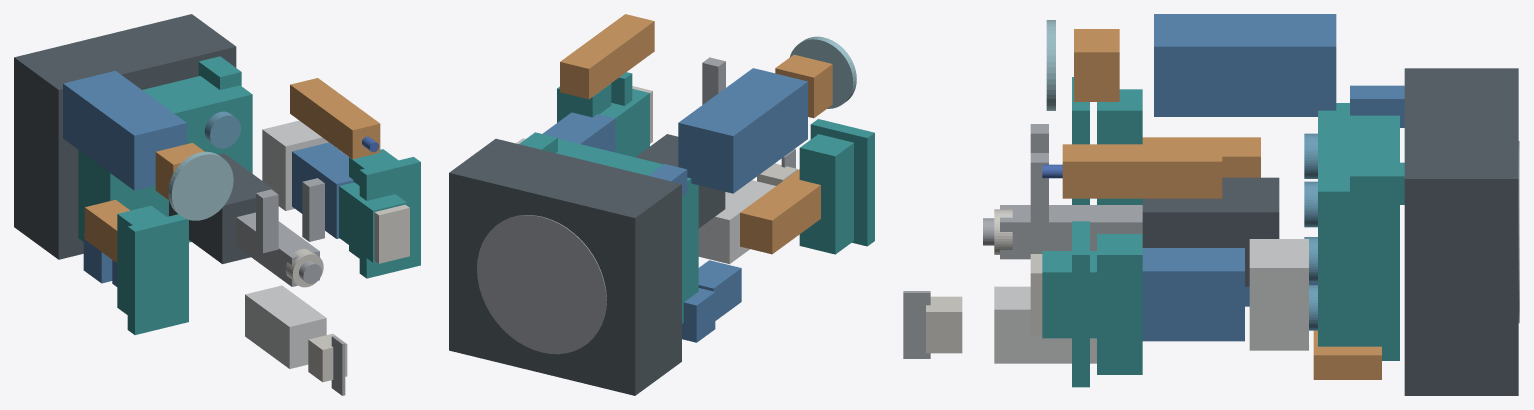
The model's file is dranmar_tumor_resection_tool_scissors.glb.
3 renders of one model, left to right at view 1: azimuth 30°, elevation 25°; view 2: azimuth 150°, elevation 25°; view 3: azimuth 270°, elevation 25°, orthographic. The views are drawn at different scales.
Parts seen in each view (by area): view 1: Mount_MountBody, BagDeployer_BagDeployerBody, SensorTurret_SensorTurretBody, LeftTraction_LeftPad, ScissorCarriage_ScissorCarriageBody, MarginMarker_MarginMarkerBody, RightTraction_RightPad, AspiratorCarriage_AspiratorCarriageBody, BagDeployer_BagRing, UltrasoundPitch_UltrasoundPitchBody, UltrasoundCarriage_UltrasoundCarriageBody, UltrasoundCompliance_UltrasoundComplianceBody (+15 smaller); view 2: Mount_MountBody, Mount_MountRing, BagDeployer_BagDeployerBody, LeftTraction_LeftTractionBody, MarginMarker_MarginMarkerBody, RamanProbe_RamanProbeBody, SensorTurret_SensorTurretBody, LeftTraction_LeftPad, ScissorCarriage_ScissorCarriageBody, UltrasoundCompliance_UltrasoundComplianceBody, BagDeployer_BagRing, BagClosure_BagClosureBody (+10 smaller); view 3: Mount_MountBody, BagDeployer_BagDeployerBody, SensorTurret_SensorTurretBody, UltrasoundPitch_UltrasoundPitchBody, MarginMarker_MarginMarkerBody, AspiratorCarriage_AspiratorCarriageBody, UltrasoundCarriage_UltrasoundCarriageBody, RightTraction_RightTractionBody, AspiratorRotor_AspiratorRotorBody, ScissorCarriage_ScissorCarriageBody, BagClosure_BagClosureBody, UltrasoundCompliance_UltrasoundComplianceBody (+16 smaller).
Part boxes in pixels (x1,y1,x2,y2): Mount_MountBody: (14,14,236,259); BagDeployer_BagDeployerBody: (63,71,186,190); SensorTurret_SensorTurretBody: (78,76,252,242); LeftTraction_LeftPad: (127,214,188,334); ScissorCarriage_ScissorCarriageBody: (245,285,326,368); MarginMarker_MarginMarkerBody: (290,78,380,159); RightTraction_RightPad: (359,157,420,278); AspiratorCarriage_AspiratorCarriageBody: (169,153,277,264); BagDeployer_BagRing: (168,151,233,220); UltrasoundPitch_UltrasoundPitchBody: (292,142,353,238); UltrasoundCarriage_UltrasoundCarriageBody: (262,120,328,210); UltrasoundCompliance_UltrasoundComplianceBody: (339,182,406,262); Mount_MountBody: (449,138,681,395); Mount_MountRing: (477,215,606,354); BagDeployer_BagDeployerBody: (678,68,807,193); LeftTraction_LeftTractionBody: (799,134,853,254); MarginMarker_MarginMarkerBody: (560,14,654,99); RamanProbe_RamanProbeBody: (740,169,820,254); SensorTurret_SensorTurretBody: (555,138,698,323); LeftTraction_LeftPad: (810,119,874,246); ScissorCarriage_ScissorCarriageBody: (698,180,775,264); UltrasoundCompliance_UltrasoundComplianceBody: (599,89,649,157); BagDeployer_BagRing: (789,36,856,108); BagClosure_BagClosureBody: (775,54,832,118); Mount_MountBody: (1404,68,1518,395); BagDeployer_BagDeployerBody: (1154,14,1336,116); SensorTurret_SensorTurretBody: (1318,103,1399,360); UltrasoundPitch_UltrasoundPitchBody: (1142,248,1244,341); MarginMarker_MarginMarkerBody: (1062,144,1222,198); AspiratorCarriage_AspiratorCarriageBody: (1142,177,1279,286); UltrasoundCarriage_UltrasoundCarriageBody: (1249,239,1308,350); RightTraction_RightTractionBody: (1097,234,1142,374); AspiratorRotor_AspiratorRotorBody: (1000,205,1142,259); ScissorCarriage_ScissorCarriageBody: (994,286,1096,363); BagClosure_BagClosureBody: (1074,29,1119,101); UltrasoundCompliance_UltrasoundComplianceBody: (1042,251,1096,338).
Size of the model in its own units: 0.185 by 0.136 by 0.2705.
